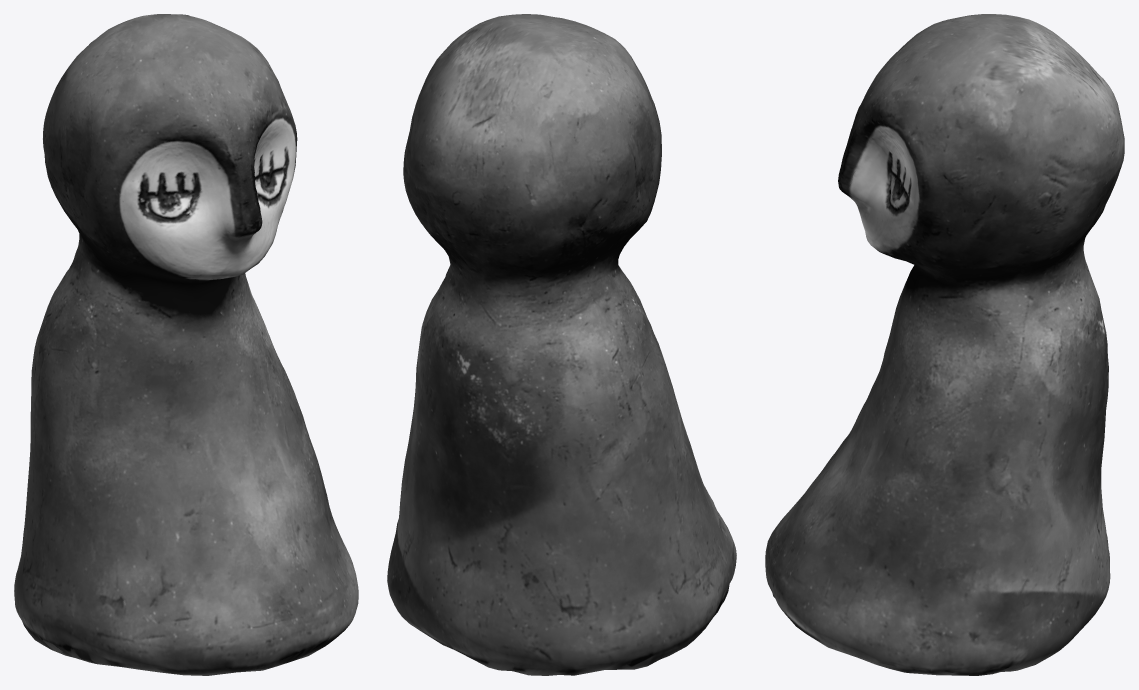
File: doll_01.glb
The picture shows the model from 3 angles, left to right: view 1: azimuth 30°, elevation 25°; view 2: azimuth 150°, elevation 25°; view 3: azimuth 270°, elevation 25°; orthographic projection. The views are drawn at different scales.
Parts seen in each view (by area): view 1: 3DModel; view 2: 3DModel; view 3: 3DModel.
Part boxes in pixels (box(x1,y1,x2,y2)): 3DModel: box(14, 14, 358, 675); 3DModel: box(387, 14, 736, 675); 3DModel: box(765, 14, 1124, 675).
Bounding box in the file's own units: 0.3932 × 0.7495 × 0.4063.
1 material, 1 textured.
